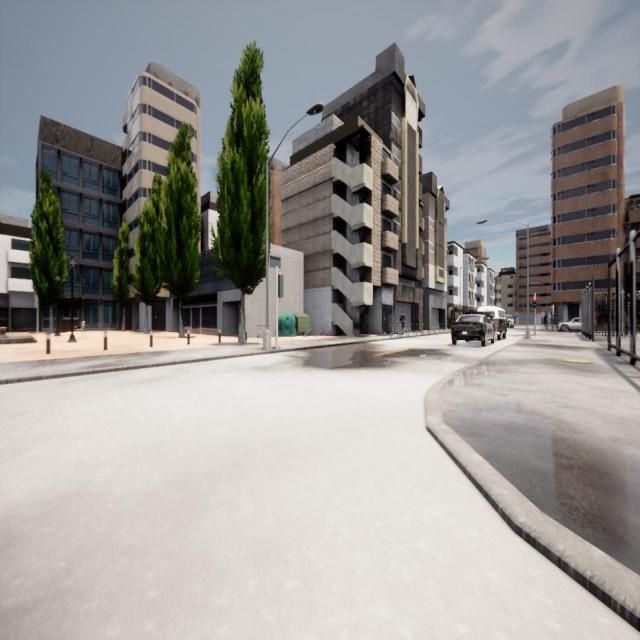Pedestrian: (400, 309, 406, 335)
Traffic_Signs: (541, 312, 545, 316)
Vehicle: (451, 314, 494, 347), (480, 306, 506, 339), (558, 318, 583, 331), (506, 314, 514, 327)
traffic_light: (278, 275, 283, 297), (532, 296, 536, 309)
